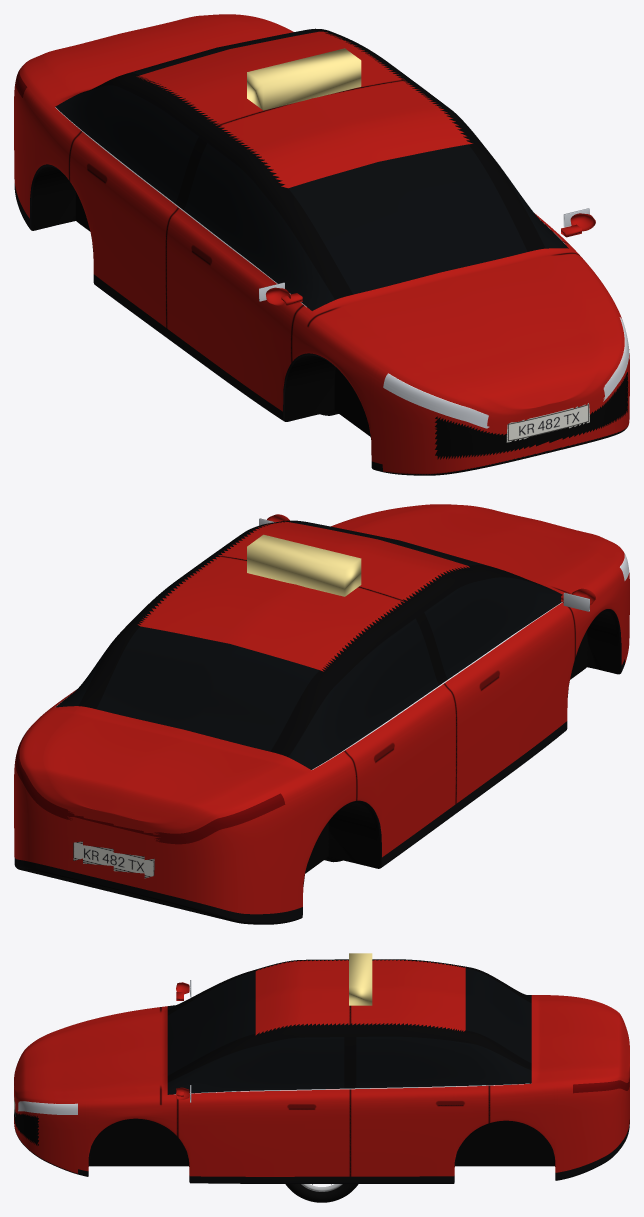
Rendered from taxi.glb.
The picture shows the model from 3 angles, top to bottom: view 1: azimuth 30°, elevation 25°; view 2: azimuth 150°, elevation 25°; view 3: azimuth 270°, elevation 25°; orthographic projection. The views are drawn at different scales.
Visible parts, largest first — view 1: body; view 2: body; view 3: body, wheel.
Part boxes in pixels (<box>): body: <box>14,14,629,475</box>; body: <box>14,504,629,924</box>; body: <box>14,953,629,1183</box>; wheel: <box>285,1184,358,1202</box>.
Bounding box in the file's own units: 2.09 × 1.95 × 4.78.
Materials: 18 (2 with a texture image).
